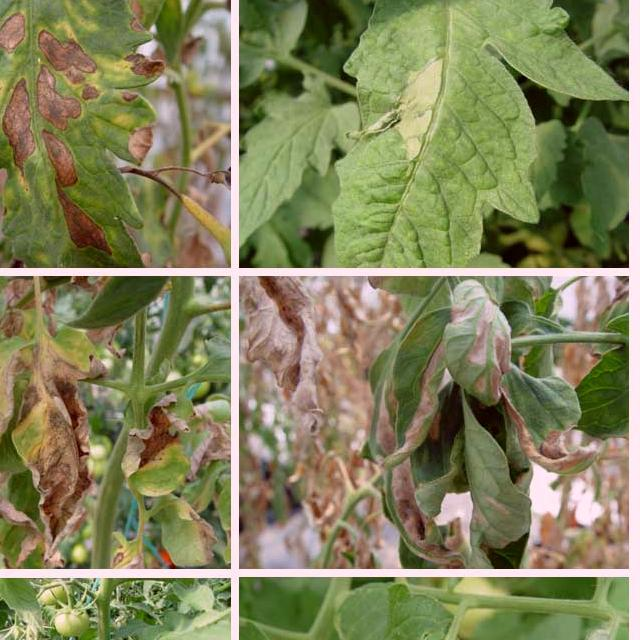Tomato leaf bacterial spot: (0, 0, 161, 257)
